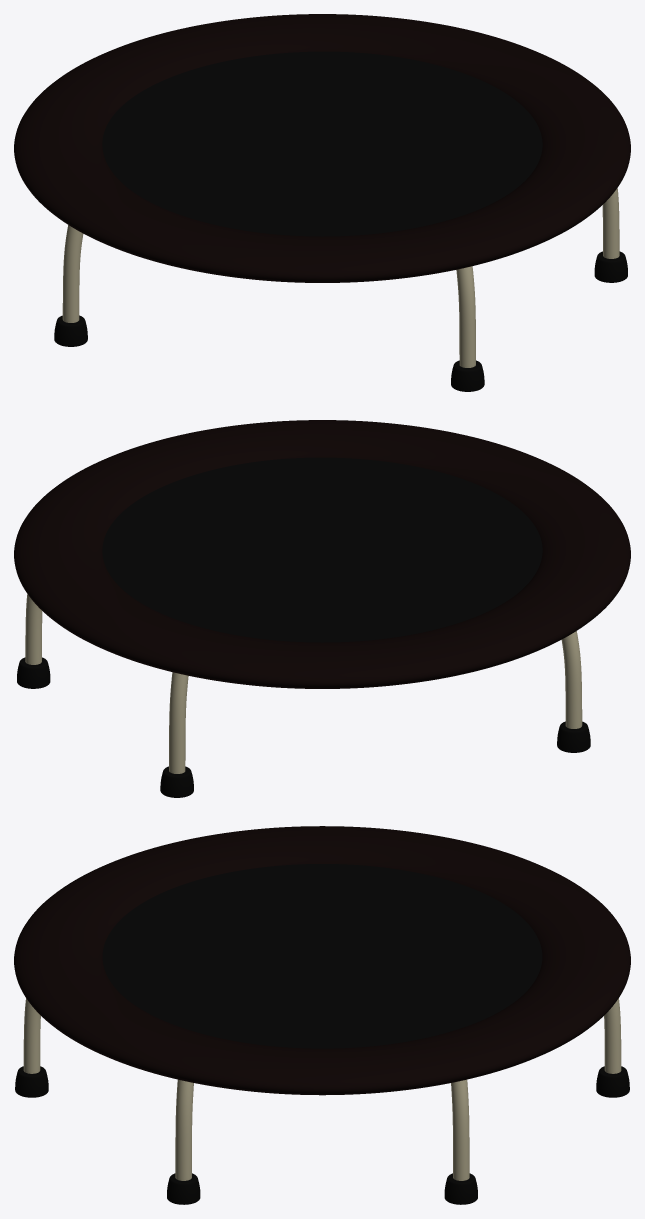
The model's file is Trampoline.obj.
3 renders of one model, top to bottom at view 1: azimuth 30°, elevation 25°; view 2: azimuth 150°, elevation 25°; view 3: azimuth 270°, elevation 25°, orthographic.
Parts seen in each view (by area): view 1: Circle; view 2: Circle; view 3: Circle.
Part boxes in pixels (<box>): Circle: <box>14,14,630,391</box>; Circle: <box>14,420,630,797</box>; Circle: <box>14,826,630,1204</box>.
Size of the model in its own units: 3.53 by 0.9083 by 3.53.
